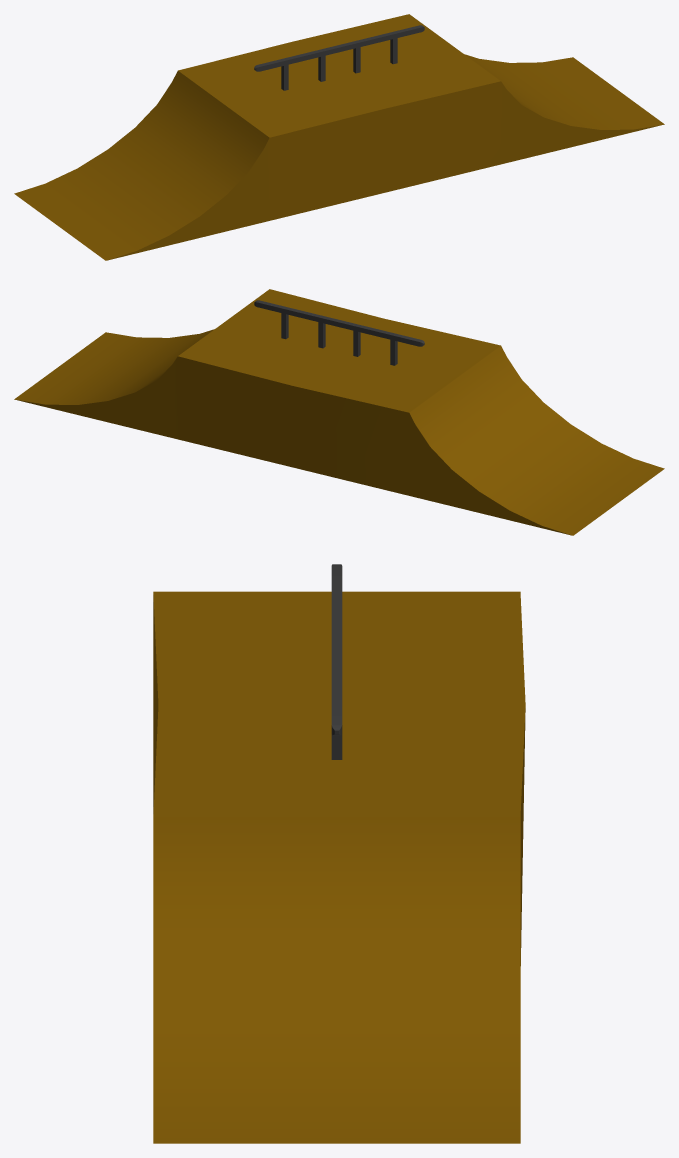
The model's file is jump_rail.fbx.
The picture shows the model from 3 angles, top to bottom: view 1: azimuth 30°, elevation 25°; view 2: azimuth 150°, elevation 25°; view 3: azimuth 270°, elevation 25°; orthographic projection. The views are drawn at different scales.
Visible parts, largest first — view 1: RailRamp; view 2: RailRamp; view 3: RailRamp.
Boxes of the visible parts, x1,y1,x2,y2 form: RailRamp: (14,14,664,260); RailRamp: (14,289,664,535); RailRamp: (153,564,525,1143).
Size of the model in its own units: 703 by 136 by 203.
